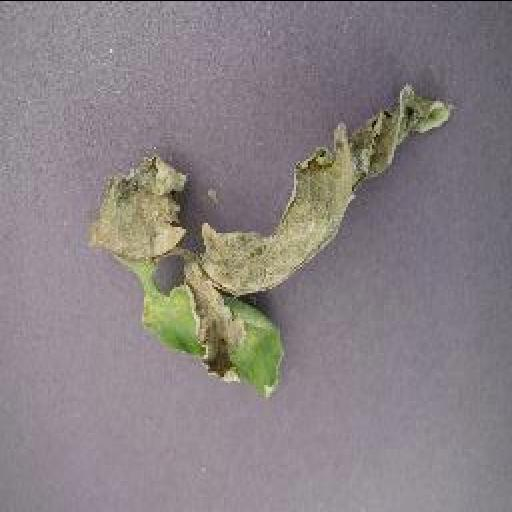disease_tomato: (89, 80, 451, 394)
